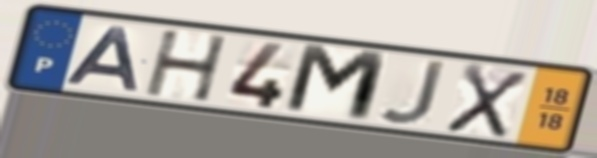4: (224, 40, 288, 111)
A: (60, 25, 143, 94)
H: (142, 28, 232, 105)
J: (375, 58, 451, 127)
M: (279, 41, 393, 127)
X: (440, 60, 532, 141)
